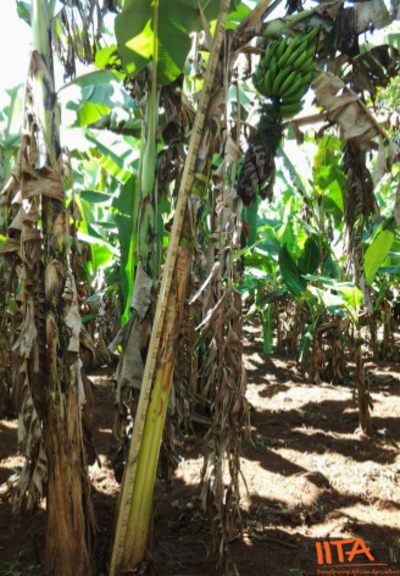bananaHand: (249, 21, 329, 107)
